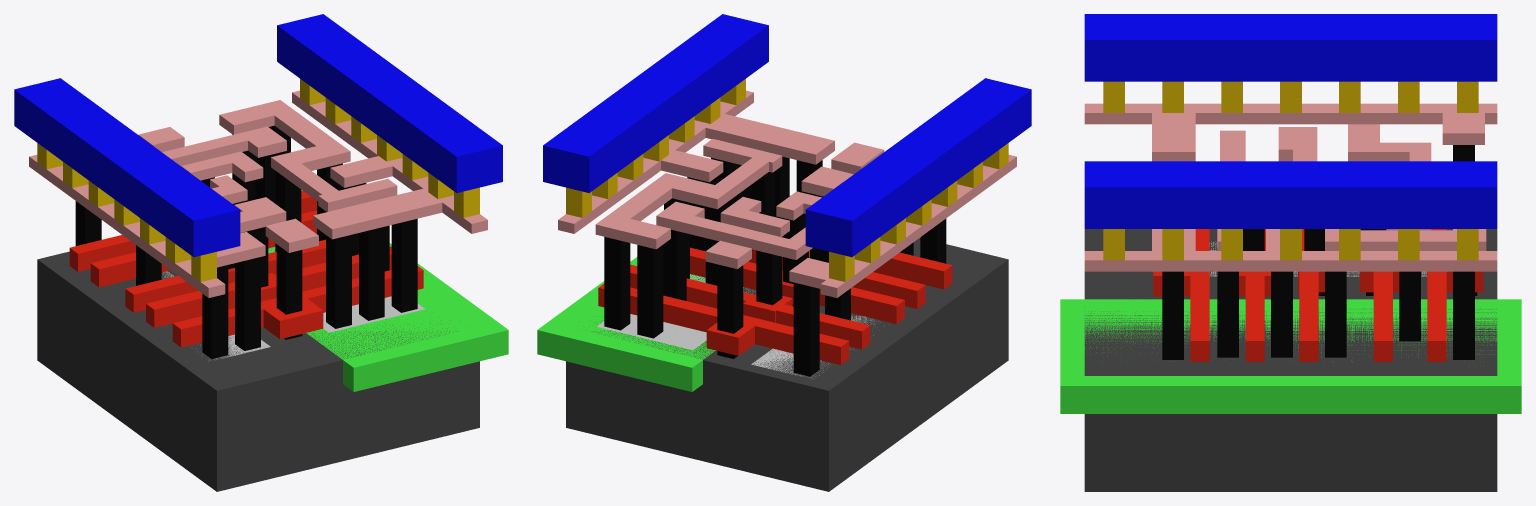
File: sky130_fd_sc_hd__a32oi_1.obj
3 views of the same model, side by side, from view 1: azimuth 30°, elevation 25°; view 2: azimuth 150°, elevation 25°; view 3: azimuth 270°, elevation 25° (orthographic). The views are drawn at different scales.
Visible parts, largest first — view 1: subs, metal1, li, licon, poly, nwell, mcon, tap; view 2: subs, metal1, li, licon, poly, nwell, mcon, tap, diff; view 3: metal1, subs, nwell, li, licon, poly, mcon.
Part boxes in pixels (box(x1,y1,x2,y2)): subs: box(37, 248, 479, 491); metal1: box(14, 14, 502, 257); li: box(29, 90, 487, 297); licon: box(75, 125, 417, 358); poly: box(69, 191, 423, 347); nwell: box(268, 190, 508, 391); mcon: box(37, 79, 479, 281); tap: box(268, 247, 425, 332); subs: box(566, 238, 1008, 491); metal1: box(543, 14, 1031, 257); li: box(558, 90, 1016, 297); licon: box(604, 156, 946, 376); poly: box(598, 236, 952, 364); nwell: box(537, 195, 790, 391); mcon: box(566, 79, 1008, 281); tap: box(596, 274, 755, 350); diff: box(751, 315, 880, 378); metal1: box(1084, 14, 1497, 228); subs: box(1084, 229, 1497, 491); nwell: box(1060, 299, 1521, 413); li: box(1084, 103, 1497, 271); licon: box(1162, 145, 1477, 359); poly: box(1153, 229, 1483, 361); mcon: box(1103, 81, 1478, 260).
Bounding box in the file's own units: 3.2 × 2.74 × 3.6.
